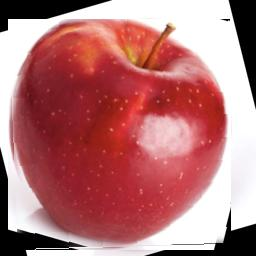Apple Fresh: (9, 20, 232, 251)
